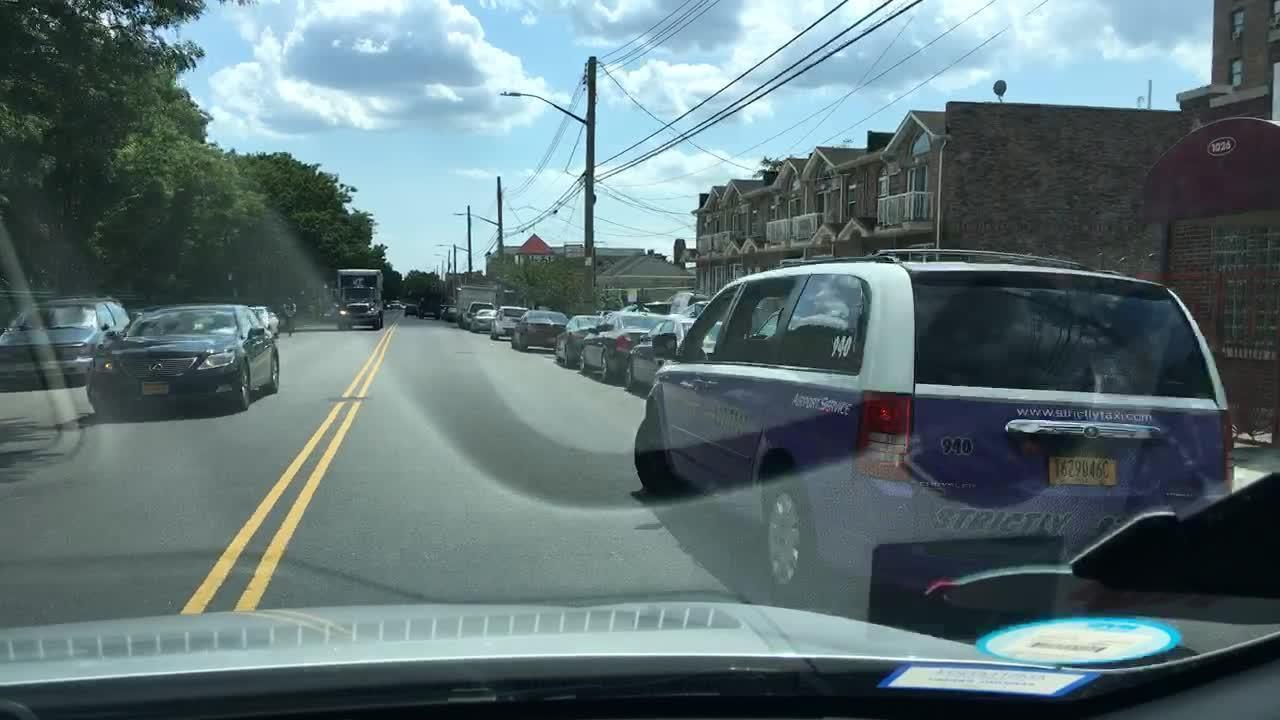ford: (1081, 423, 1103, 439)
lexus: (142, 357, 168, 375)
